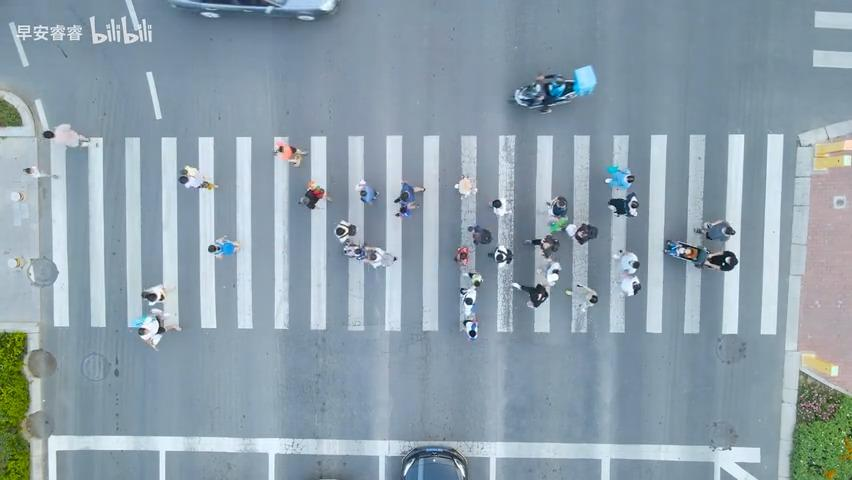Civilian: (136, 309, 181, 350), (342, 240, 396, 268), (612, 249, 641, 297), (663, 239, 709, 268), (459, 271, 490, 314), (393, 180, 425, 218), (42, 123, 90, 148), (534, 73, 574, 99), (510, 281, 548, 308), (178, 165, 219, 190), (298, 180, 332, 210), (693, 219, 735, 241), (272, 141, 307, 167), (523, 234, 559, 258), (545, 195, 568, 232), (607, 191, 639, 217), (604, 164, 635, 190), (207, 235, 240, 259), (702, 250, 738, 271), (565, 222, 597, 245), (141, 283, 175, 304), (564, 283, 598, 303), (355, 178, 379, 205), (453, 173, 477, 199), (334, 219, 356, 244), (488, 244, 513, 264), (467, 224, 492, 244), (462, 312, 478, 340), (488, 198, 512, 216), (454, 245, 470, 265)
